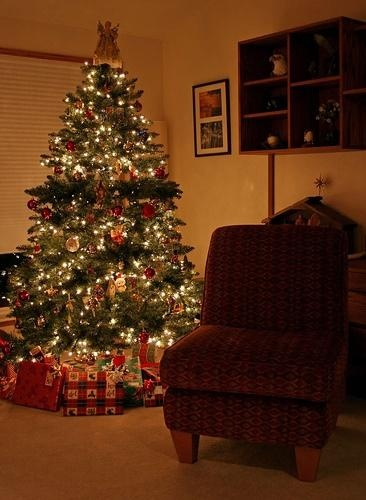chair: (160, 219, 351, 486)
